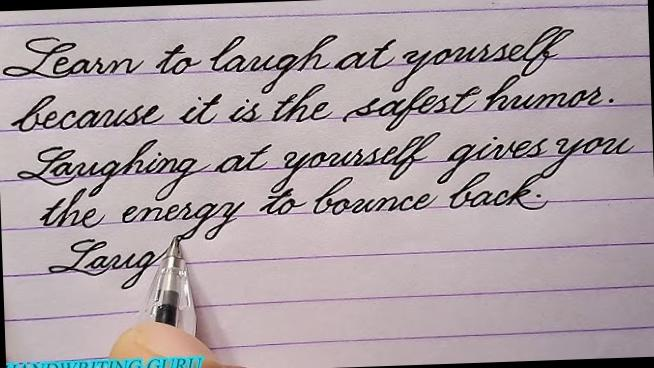text: (14, 120, 640, 210), (0, 16, 578, 107), (8, 70, 616, 148), (34, 167, 551, 248), (45, 234, 172, 294), (5, 353, 204, 368)
